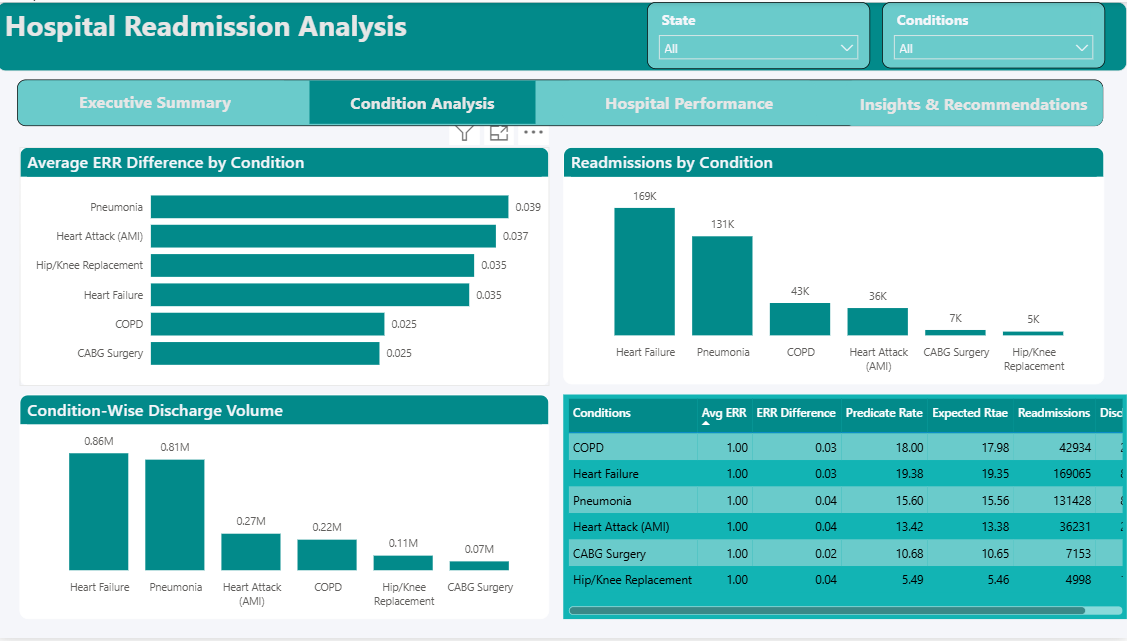

What the dashboard file says about the page in this screenshot:
{"tool":"powerbi","page":{"name":"Condition Analysis","canvas":[1280,720],"ordinal":1},"visuals":[{"type":"textbox","title":"Hospital Readmission Analysis","box":[0,0,1280,78.6],"z":0},{"type":"textbox","box":[22.9,87.1,1230,52.9],"z":500,"group":"g2"},{"type":"slicer","fields":{"Values":["cleaned_data.clean_measure_name"]},"box":[1001.6,0,252.7,75],"z":1000,"group":"g1"},{"type":"actionButton","title":"Executive Summary ","box":[33.6,88.4,290,47.2],"z":1000,"group":"g2"},{"type":"barChart","title":"Average ERR Difference by Condition","fields":{"Category":["cleaned_data.clean_measure_name"],"Y":["cleaned_data.SEL_err_diff"]},"box":[25.7,164.3,600,270],"z":1000},{"type":"actionButton","title":"Executive Summary ","box":[960,88.5,292.9,51.4],"z":1500,"group":"g2"},{"type":"slicer","fields":{"Values":["cleaned_data.state"]},"box":[735.7,0,252.7,75.7],"z":2000,"group":"g1"},{"type":"actionButton","title":"Executive Summary ","box":[354.3,88.3,255.7,48.6],"z":2000,"group":"g2"},{"type":"columnChart","title":"Readmissions by Condition","fields":{"Category":["cleaned_data.clean_measure_name"],"Y":["Sum(cleaned_data.clean_readmissions)"]},"box":[641.4,164.3,612.9,268.6],"z":2000},{"type":"columnChart","title":"Condition‑Wise Discharge Volume","fields":{"Category":["cleaned_data.clean_measure_name"],"Y":["Sum(cleaned_data.clean_discharges)"]},"box":[25.7,444.3,600,254.3],"z":3000},{"type":"actionButton","title":"Executive Summary ","box":[640.8,88.3,288.6,48.6],"z":4000,"group":"g2"},{"type":"tableEx","fields":{"Values":["cleaned_data.clean_measure_name","cleaned_data.SEL_AVG_ERR","cleaned_data.SEL_err_diff","cleaned_data.SEL_predicated","cleaned_data.SEL_expected","cleaned_data.SEL_TOTAL_READMISSION","cleaned_data.SEL_TOTAL_DISCHARGES"]},"box":[641.4,444.3,638.6,254.3],"z":4000},{"type":"group","id":"g1","title":"Group 2","box":[735.7,0,518.6,75.7],"z":5000},{"type":"group","id":"g2","title":"Group 1","box":[22.9,87.1,1230,52.9],"z":6000}]}

Visuals, with their boxes in screenshot pixels (x1, y1, x2, y2), scaled from the page's 1280x720 canvas onto the 1127x641 screenshot:
"Hospital Readmission Analysis" textbox: 0 0 1126 70
textbox: 20 78 1103 125
slicer - cleaned_data.clean_measure_name: 882 0 1104 67
"Executive Summary " actionButton: 30 79 285 121
"Average ERR Difference by Condition" barChart: 23 146 551 387
"Executive Summary " actionButton: 845 79 1103 125
slicer - cleaned_data.state: 648 0 870 67
"Executive Summary " actionButton: 312 79 537 122
"Readmissions by Condition" columnChart: 565 146 1104 385
"Condition‑Wise Discharge Volume" columnChart: 23 396 551 622
"Executive Summary " actionButton: 564 79 818 122
tableEx - cleaned_data.clean_measure_name x cleaned_data.SEL_AVG_ERR: 565 396 1126 622
"Group 2" group: 648 0 1104 67
"Group 1" group: 20 78 1103 125
